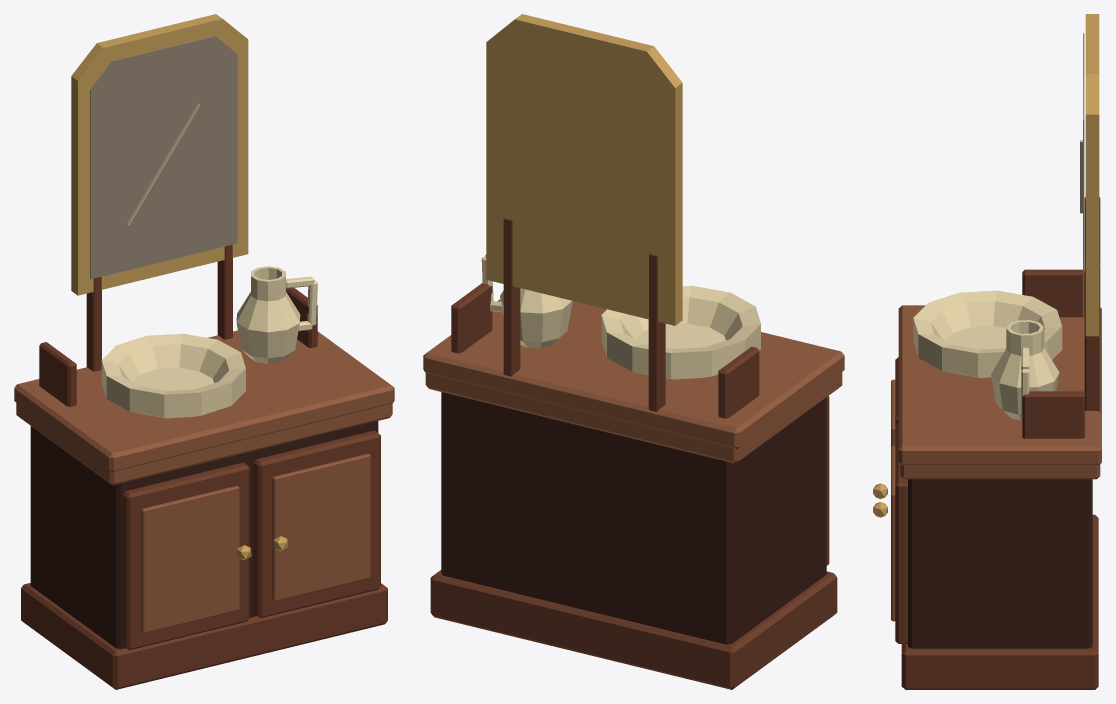
Rendered from wash_table.glb.
3 views of the same model, side by side, from view 1: azimuth 30°, elevation 25°; view 2: azimuth 150°, elevation 25°; view 3: azimuth 270°, elevation 25° (orthographic). The views are drawn at different scales.
Parts seen in each view (by area): view 1: Case, Mirror_Glass, Top, Case_Body, Case_Plinth, Mirror_Frame, Bowl_Dish, Case_Top, Jug_Body, SplashSide, MirrorSupport, MirrorSupport_001 (+2 smaller); view 2: Case_Body, Mirror_Frame, Top, Case_Plinth, Bowl_Dish, Case_Top, Jug_Body, MirrorSupport_001, SplashSide, MirrorSupport, SplashSide_001, Case; view 3: Case_Body, Top, Case_Plinth, Bowl_Dish, Mirror_Frame, Jug_Body, Case, Case_Top, SplashSide_001, SplashSide, MirrorSupport_001, Mirror_Glass.
Part boxes in pixels (x1=…): Case: x1=122, y1=430, x2=380, y2=650; Mirror_Glass: x1=90, y1=36, x2=237, y2=278; Top: x1=14, y1=330, x2=394, y2=472; Case_Body: x1=30, y1=421, x2=378, y2=648; Case_Plinth: x1=21, y1=583, x2=387, y2=689; Mirror_Frame: x1=71, y1=14, x2=248, y2=295; Bowl_Dish: x1=101, y1=333, x2=245, y2=418; Case_Top: x1=16, y1=403, x2=392, y2=485; Jug_Body: x1=236, y1=266, x2=300, y2=363; SplashSide: x1=39, y1=342, x2=76, y2=406; MirrorSupport: x1=86, y1=276, x2=101, y2=371; MirrorSupport_001: x1=217, y1=244, x2=232, y2=339; Case_Body: x1=441, y1=392, x2=826, y2=644; Mirror_Frame: x1=486, y1=14, x2=682, y2=325; Top: x1=423, y1=299, x2=844, y2=448; Case_Plinth: x1=430, y1=570, x2=837, y2=689; Bowl_Dish: x1=601, y1=285, x2=760, y2=379; Case_Top: x1=425, y1=372, x2=842, y2=463; Jug_Body: x1=500, y1=288, x2=572, y2=348; MirrorSupport_001: x1=503, y1=218, x2=520, y2=376; SplashSide: x1=718, y1=346, x2=759, y2=418; MirrorSupport: x1=648, y1=253, x2=665, y2=411; SplashSide_001: x1=451, y1=283, x2=492, y2=353; Case: x1=826, y1=396, x2=829, y2=565; Case_Body: x1=908, y1=479, x2=1092, y2=648; Top: x1=898, y1=305, x2=1101, y2=465; Case_Plinth: x1=901, y1=514, x2=1098, y2=689; Bowl_Dish: x1=913, y1=290, x2=1062, y2=377; Mirror_Frame: x1=1085, y1=14, x2=1099, y2=336; Jug_Body: x1=991, y1=320, x2=1059, y2=420; Case: x1=873, y1=357, x2=907, y2=643; Case_Top: x1=900, y1=464, x2=1100, y2=479; SplashSide_001: x1=1022, y1=391, x2=1084, y2=438; SplashSide: x1=1022, y1=269, x2=1084, y2=317; MirrorSupport_001: x1=1084, y1=263, x2=1100, y2=411; Mirror_Glass: x1=1083, y1=33, x2=1084, y2=315.
Bounding box in the file's own units: 1.09 × 2.04 × 0.7318.
